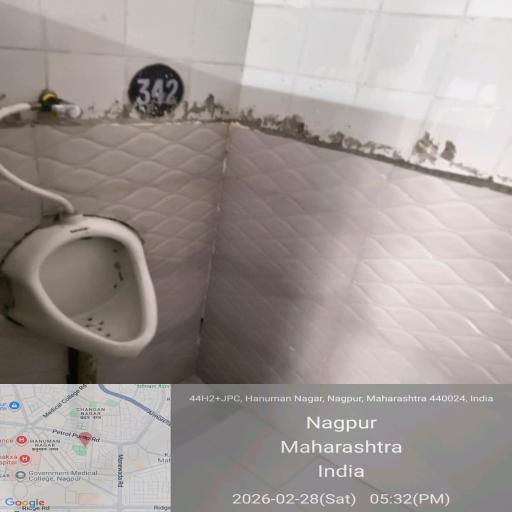clean_floor: (0, 5, 512, 167), (155, 190, 460, 373)
partial_dirty_urinal: (8, 228, 162, 349)
